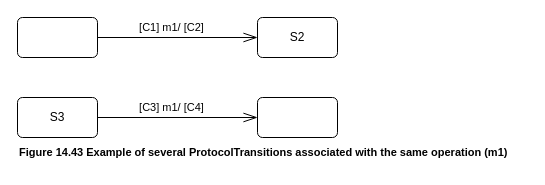
Image size: 545x185. Some labels were removed from this diagram. The shapes that lost their labels are listed below. From the top down, each one's box as (x1, y1, x2, y2) in pixels, then its label:
(16, 16, 98, 58): S1
(256, 96, 338, 138): S4
